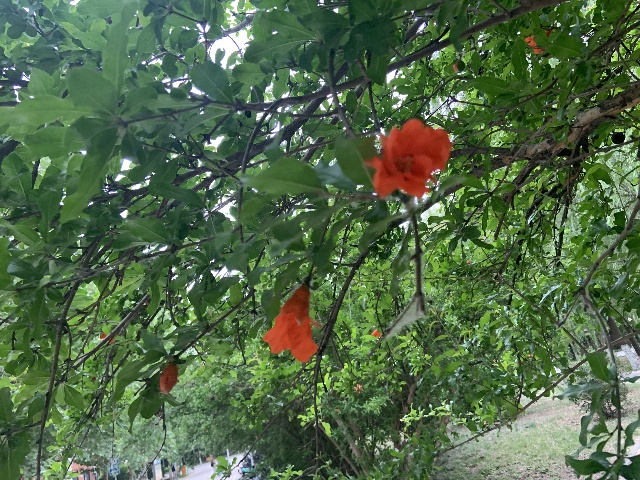bud: (159, 363, 178, 393), (453, 63, 458, 71), (466, 261, 470, 264)
flower: (364, 118, 452, 200), (263, 283, 322, 363), (523, 29, 552, 54), (354, 383, 363, 393), (371, 329, 380, 338)
